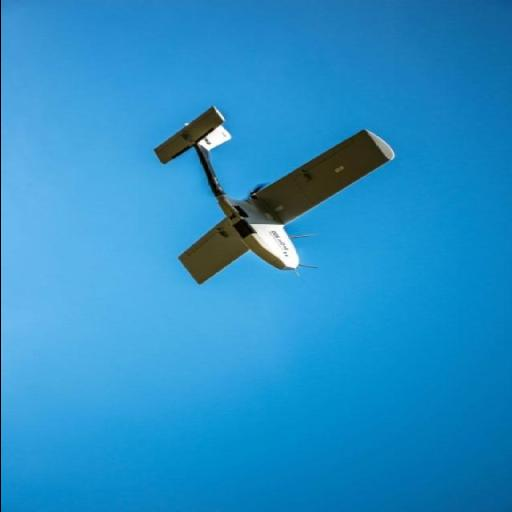uav: (136, 95, 394, 307)
